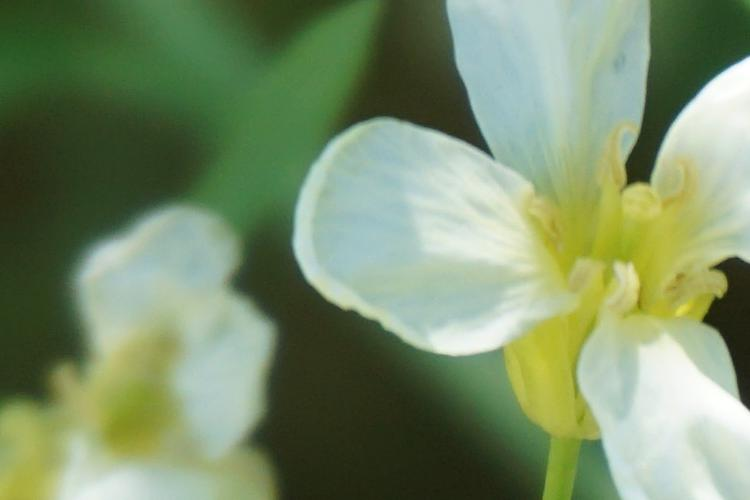white: (295, 4, 750, 499), (16, 209, 290, 494)
